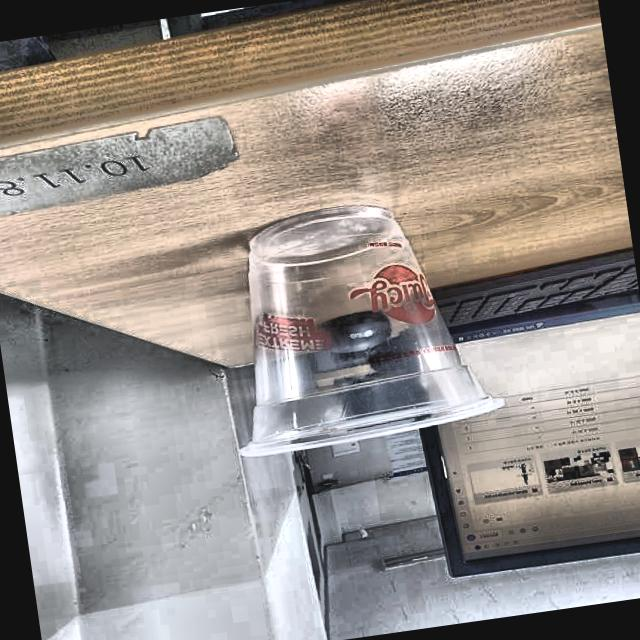plastic cup: (210, 188, 508, 458)
